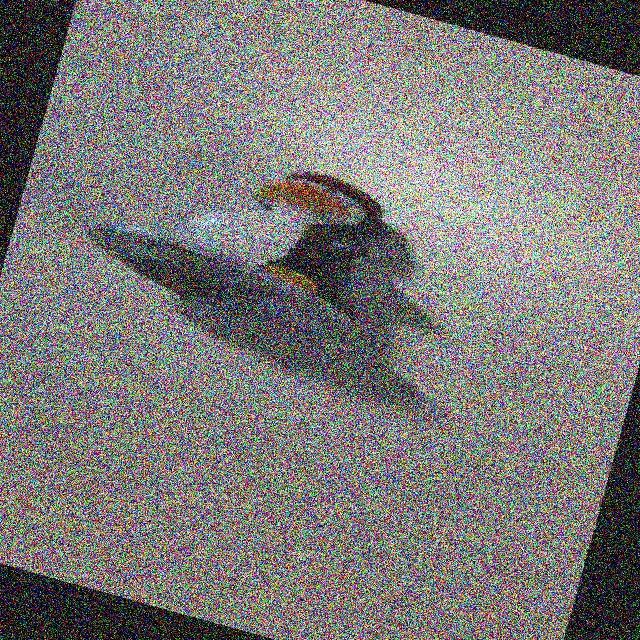Penguin: (89, 118, 446, 354)
